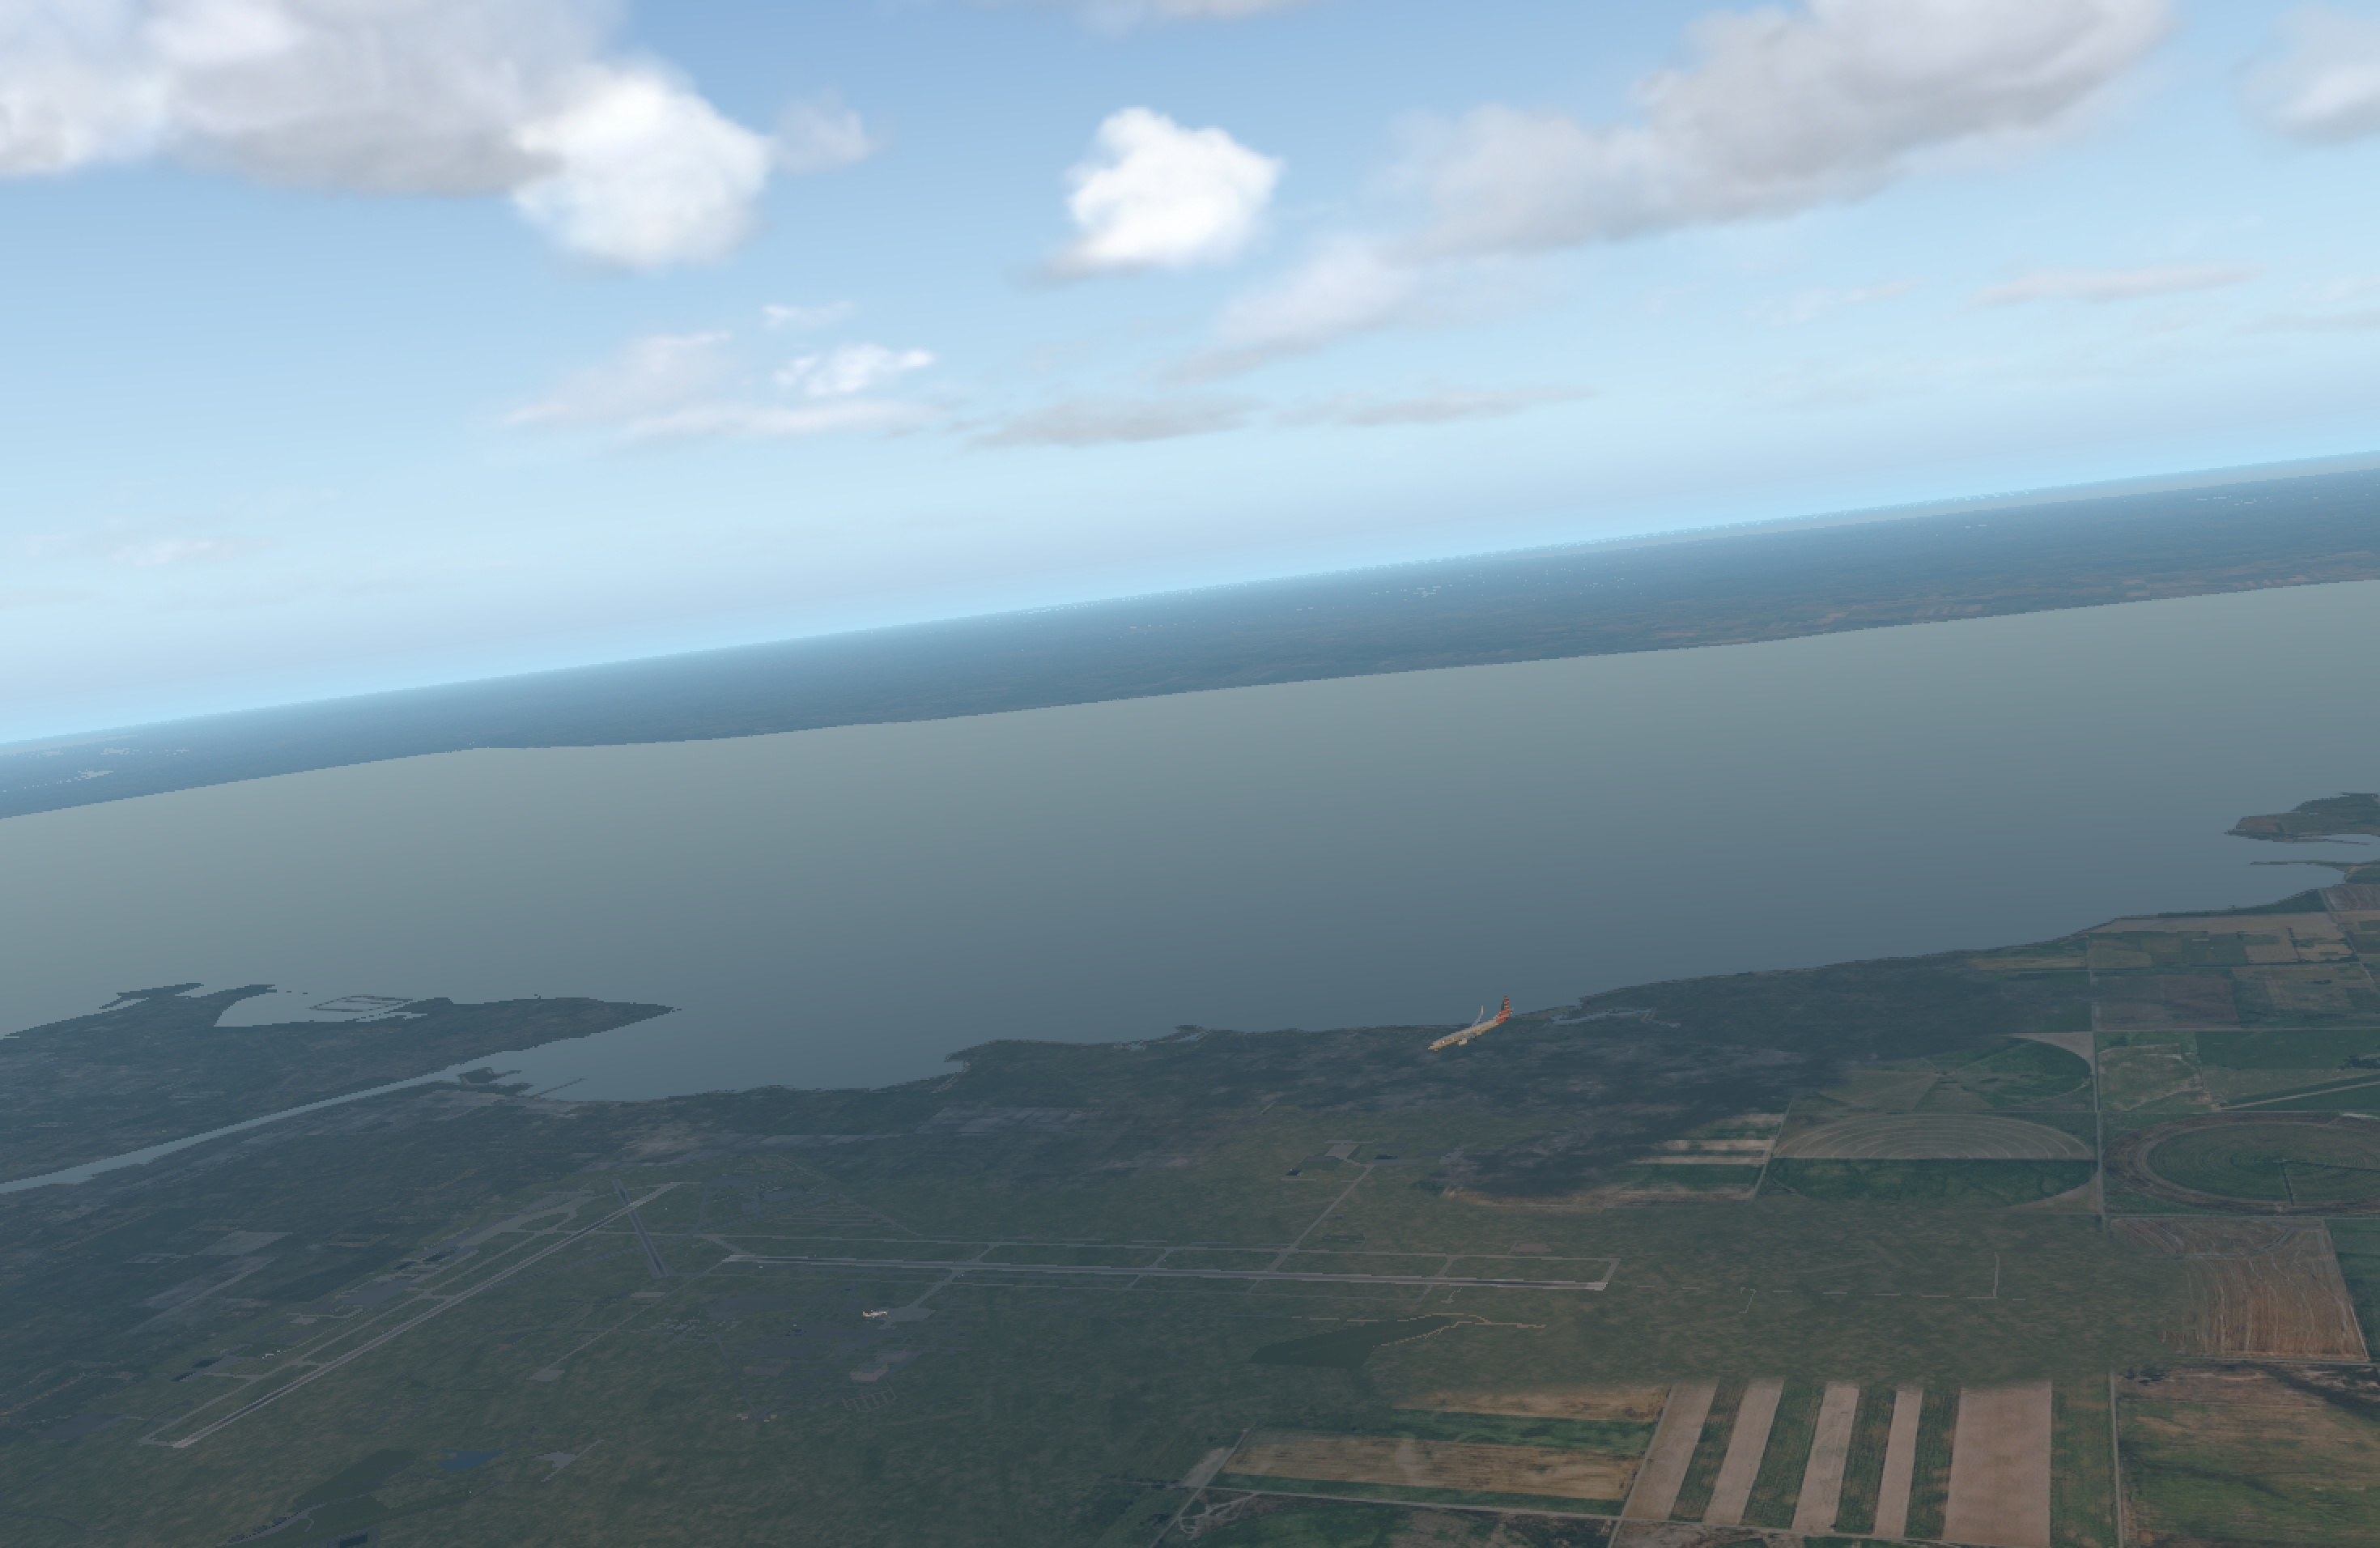aircraft: (1422, 1017, 1516, 1052)
